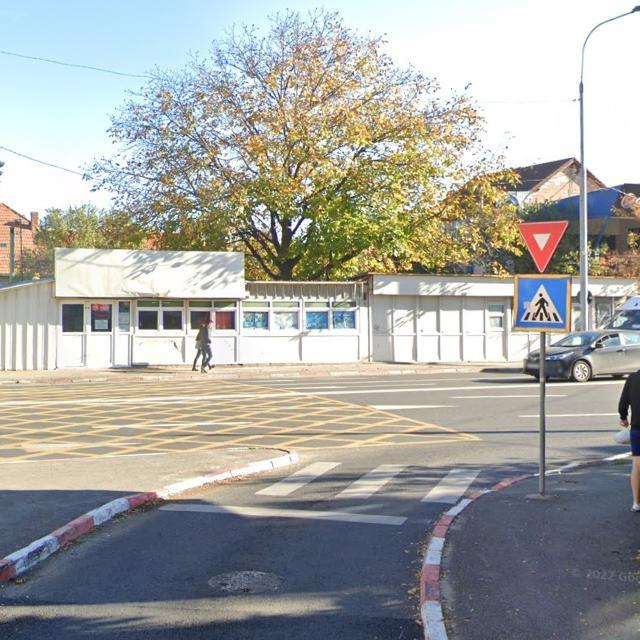info_crosswalk: (514, 274, 572, 332)
prio_give_way: (519, 221, 569, 273)
